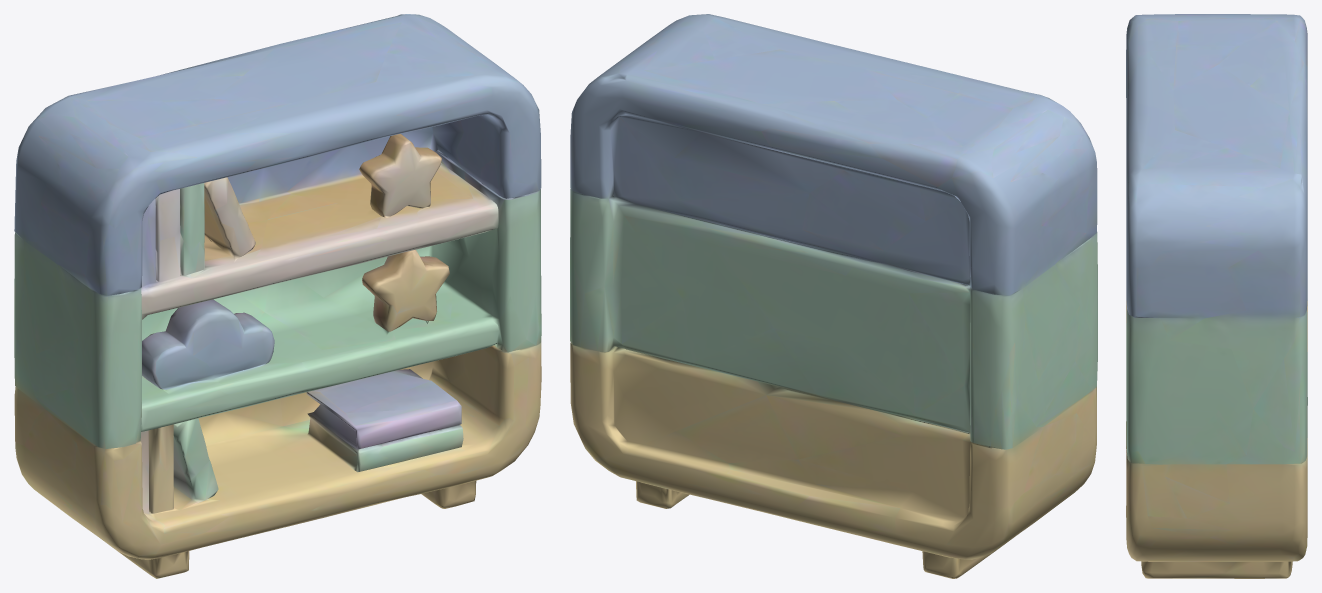
The model's file is living_bookshelf.glb.
The picture shows the model from 3 angles, left to right: view 1: azimuth 30°, elevation 25°; view 2: azimuth 150°, elevation 25°; view 3: azimuth 270°, elevation 25°; orthographic projection. The views are drawn at different scales.
Visible parts, largest first — view 1: tripo_node_cb0a1a65-645b-4444-afe4-879349921591; view 2: tripo_node_cb0a1a65-645b-4444-afe4-879349921591; view 3: tripo_node_cb0a1a65-645b-4444-afe4-879349921591.
Part boxes in pixels (x1=…): tripo_node_cb0a1a65-645b-4444-afe4-879349921591: x1=14, y1=14, x2=541, y2=578; tripo_node_cb0a1a65-645b-4444-afe4-879349921591: x1=570, y1=14, x2=1097, y2=578; tripo_node_cb0a1a65-645b-4444-afe4-879349921591: x1=1126, y1=14, x2=1307, y2=578.
Size of the model in its own units: 1.6 by 1.48 by 0.5915.
1 material, 1 textured.
